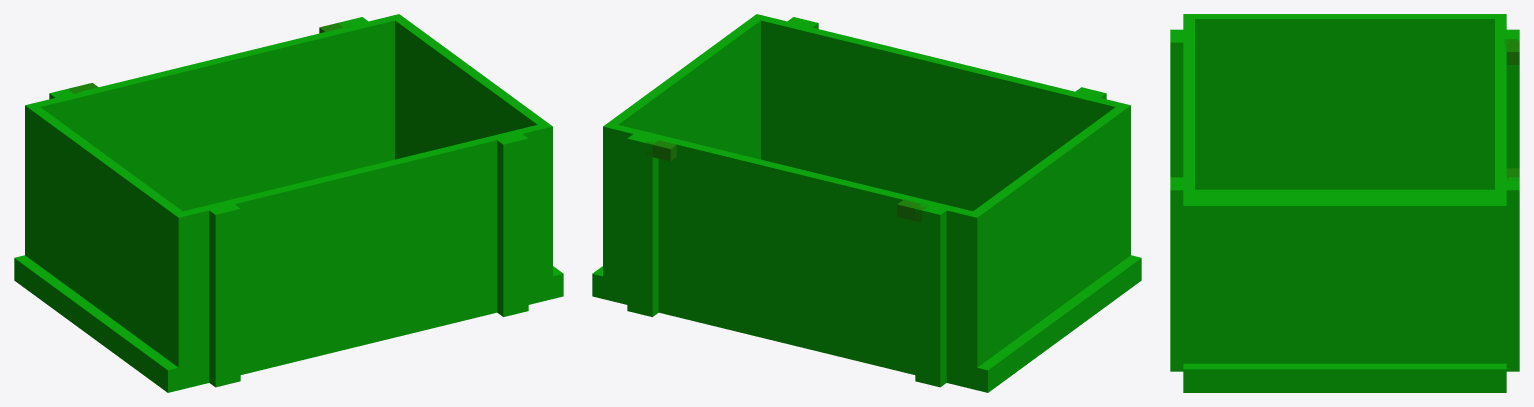
The model's file is SM_LC_Wood_Body.fbx.
3 views of the same model, side by side, from view 1: azimuth 30°, elevation 25°; view 2: azimuth 150°, elevation 25°; view 3: azimuth 270°, elevation 25° (orthographic). The views are drawn at different scales.
Parts seen in each view (by area): view 1: SM_LC_Wood_Body; view 2: SM_LC_Wood_Body; view 3: SM_LC_Wood_Body.
Boxes of the visible parts, bbox=[...] form: SM_LC_Wood_Body: bbox=[14, 14, 563, 392]; SM_LC_Wood_Body: bbox=[592, 14, 1141, 392]; SM_LC_Wood_Body: bbox=[1170, 14, 1519, 392].
Size of what is drawn, in the model's own units: 110 by 80 by 45.8.
